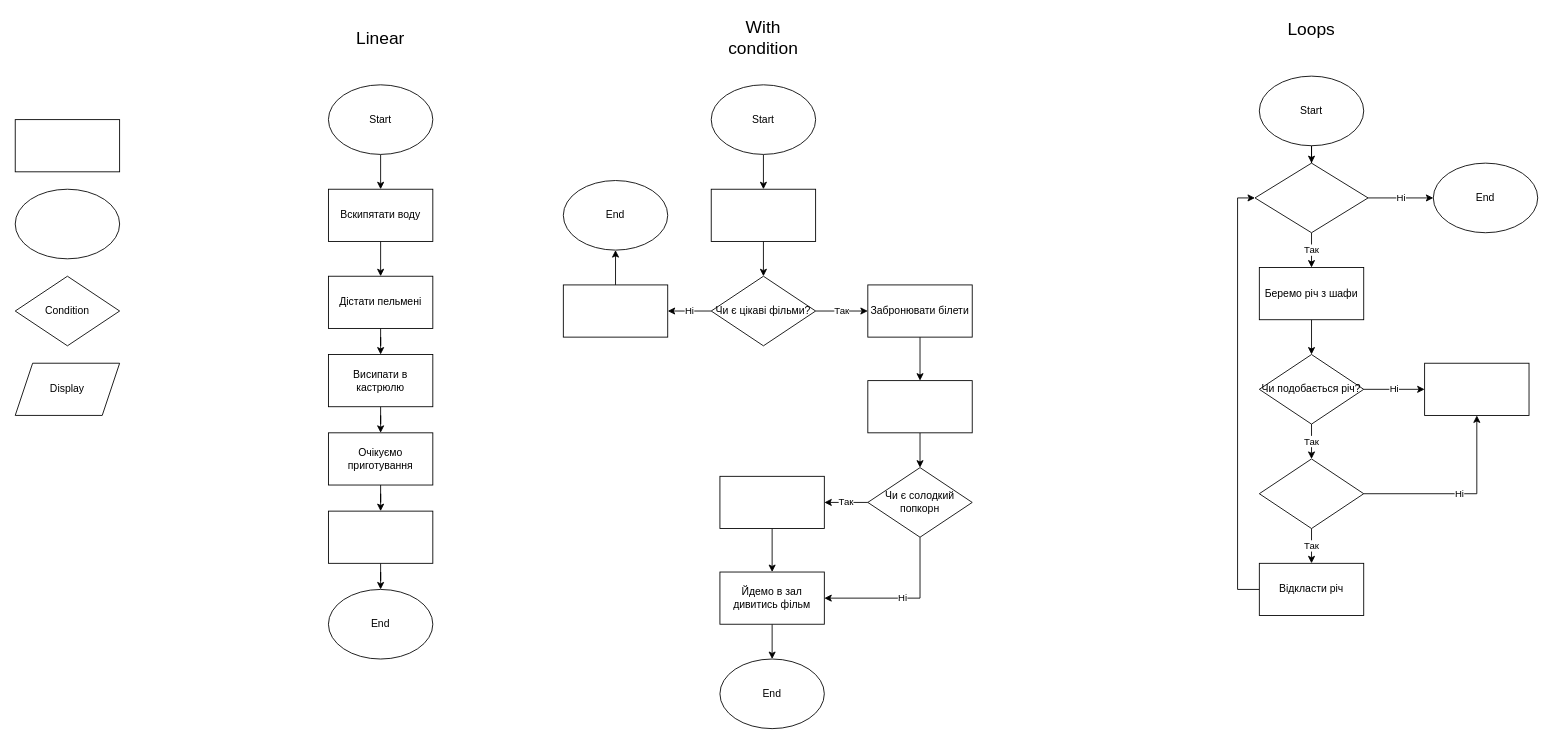
Some shapes in this 1553 by 744 pixel diagram are drawn without their labels. The centre of each missing label's shape, as x and y in pixels:
"Action" belongs at point 67,145.
"Start/End" belongs at point 67,223.
"Викидуємо" belongs at point 1476,388.
"Дістаємо пельмені" belongs at point 380,536.
"Залишаємось вдома" belongs at point 615,310.
"Купляємо попкорн" belongs at point 771,502.
"Подивись премєри" belongs at point 763,214.
"Поіхали в кінотеатр" belongs at point 919,406.
"Чи підходить річ?" belongs at point 1311,493.
"Чи є ще речі в шафі?" belongs at point 1311,197.
